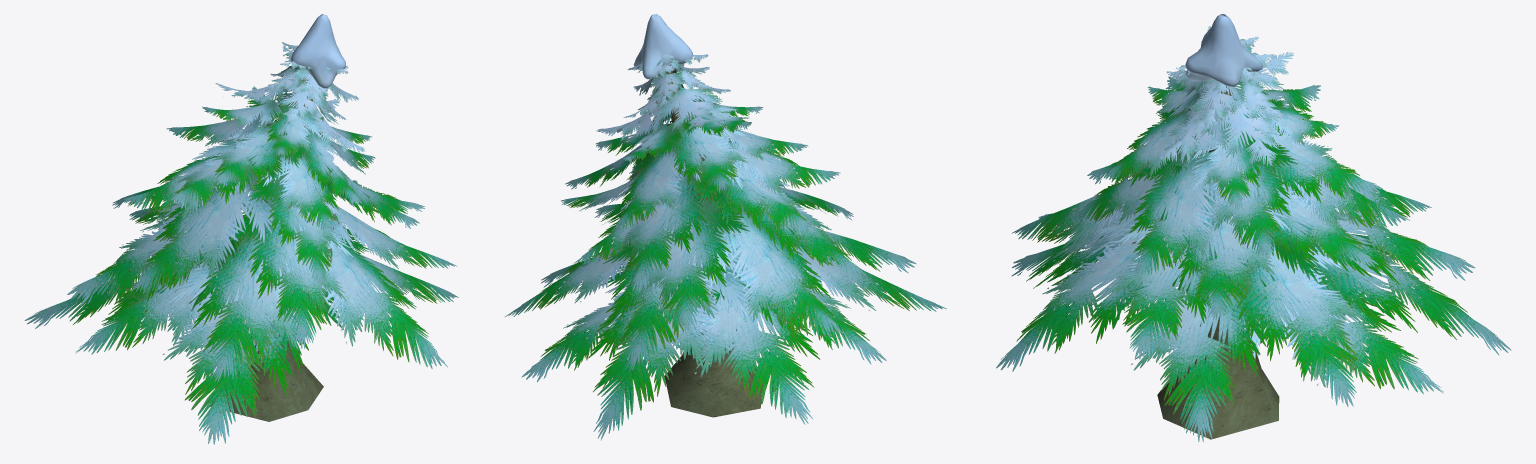
The model's file is songshu_xue2.FBX.
3 views of the same model, side by side, from view 1: azimuth 30°, elevation 25°; view 2: azimuth 150°, elevation 25°; view 3: azimuth 270°, elevation 25° (orthographic). The views are drawn at different scales.
Parts seen in each view (by area): view 1: 2, 1; view 2: 2, 1; view 3: 2, 1.
Boxes of the visible parts, left/top/right/bottom form: 2: left=24, top=42, right=458, bottom=444; 1: left=290, top=14, right=345, bottom=88; 2: left=505, top=54, right=946, bottom=440; 1: left=634, top=14, right=692, bottom=79; 2: left=996, top=26, right=1511, bottom=442; 1: left=1185, top=14, right=1262, bottom=86.
Bounding box in the file's own units: 152 × 141 × 159.
